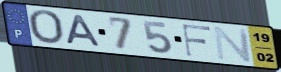5: (141, 19, 174, 55)
7: (107, 15, 138, 52)
A: (65, 14, 104, 49)
F: (181, 23, 213, 58)
N: (212, 25, 254, 63)
O: (26, 9, 66, 47)
